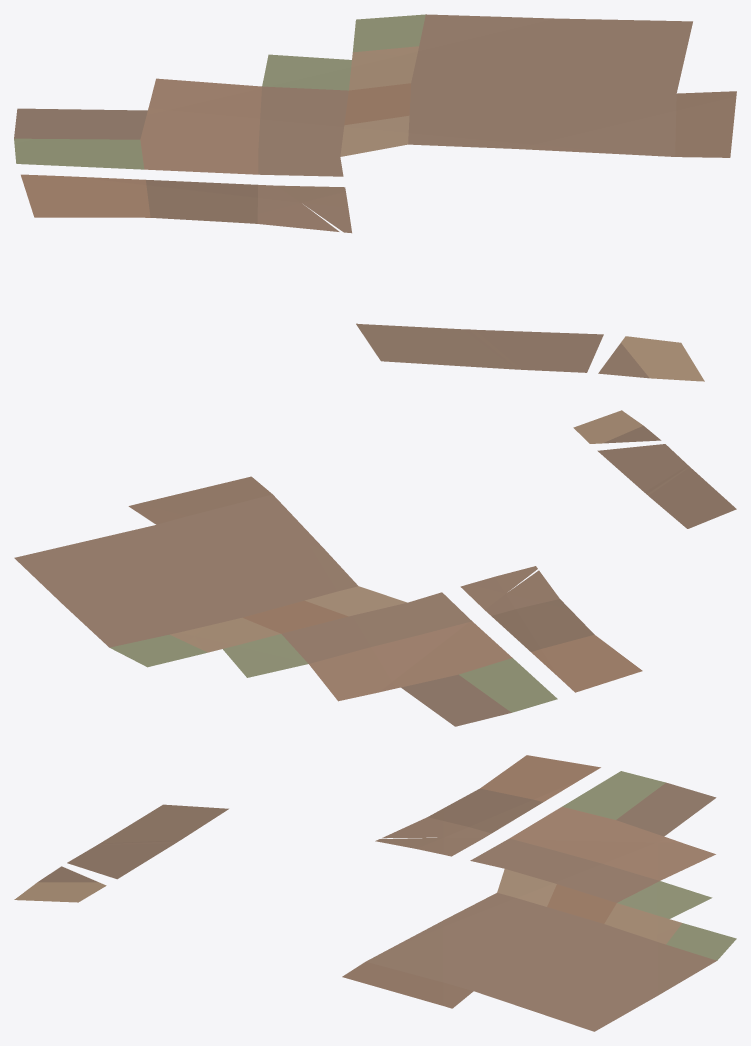
Rendered from farm_4_21_soil.glb.
3 renders of one model, top to bottom at view 1: azimuth 30°, elevation 25°; view 2: azimuth 150°, elevation 25°; view 3: azimuth 270°, elevation 25°, orthographic. The views are drawn at different scales.
Parts seen in each view (by area): view 1: geometry_0; view 2: geometry_0; view 3: geometry_0.
Part boxes in pixels (box(x1,y1,x2,y2)): geometry_0: box(14, 14, 736, 381); geometry_0: box(14, 410, 736, 726); geometry_0: box(14, 755, 736, 1031).
Size of the model in its own units: 241 by 5.26 by 271.
